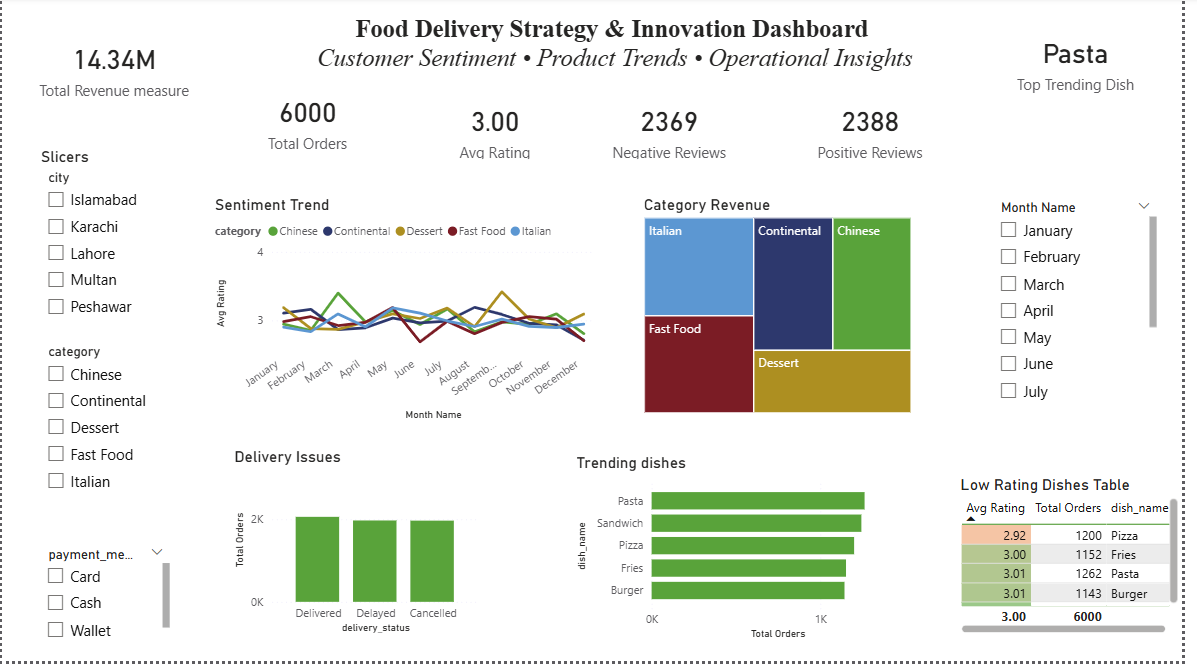

This screenshot's page, from the dashboard's own definition file:
{"tool":"powerbi","page":{"name":"Page 5","canvas":[1280,720],"ordinal":4},"visuals":[{"type":"clusteredBarChart","title":"Trending dishes","fields":{"Category":["Foodpanda Analysis Dataset.dish_name"],"Y":["Foodpanda Analysis Dataset.Total Orders"]},"box":[618.1,494.5,372.5,206.6],"z":0},{"type":"columnChart","title":"Delivery Issues","fields":{"Category":["Foodpanda Analysis Dataset.delivery_status"],"Y":["Foodpanda Analysis Dataset.Total Orders"]},"box":[247.2,488,274.9,206.6],"z":1000},{"type":"lineChart","title":"Sentiment Trend","fields":{"Y":["Foodpanda Analysis Dataset.Avg Rating"],"Series":["Foodpanda Analysis Dataset.category"],"Category":["Foodpanda Analysis Dataset.Month Name"]},"box":[226.1,214.7,421.3,248.9],"z":2000},{"type":"treemap","title":"Category Revenue","fields":{"Group":["Foodpanda Analysis Dataset.category"],"Values":["CountNonNull(Foodpanda Analysis Dataset.Total Revenue)"]},"box":[691.3,214.7,299.3,240.7],"z":3000},{"type":"tableEx","title":"Low Rating Dishes Table","fields":{"Values":["Foodpanda Analysis Dataset.Avg Rating","Foodpanda Analysis Dataset.Total Orders","Foodpanda Analysis Dataset.dish_name"]},"box":[1034.5,518.9,245.6,175.7],"z":4000},{"type":"card","fields":{"Values":["Foodpanda Analysis Dataset.Total Revenue measure"]},"box":[16.3,1.6,209.8,149.6],"z":5000},{"type":"card","fields":{"Values":["Foodpanda Analysis Dataset.Total Orders"]},"box":[247.2,87.8,167.5,92.7],"z":6000},{"type":"card","fields":{"Values":["Foodpanda Analysis Dataset.Avg Rating"]},"box":[450.6,105.7,167.5,74.8],"z":7000},{"type":"card","fields":{"Values":["Foodpanda Analysis Dataset.Negative Reviews"]},"box":[639.2,105.7,167.5,74.8],"z":8000},{"type":"card","fields":{"Values":["Foodpanda Analysis Dataset.Positive Reviews"]},"box":[811.6,105.7,258.6,74.8],"z":9000},{"type":"slicer","title":"Slicers","fields":{"Values":["Foodpanda Analysis Dataset.city"]},"box":[37.4,162.7,149.6,196.8],"z":10000},{"type":"slicer","fields":{"Values":["Foodpanda Analysis Dataset.category"]},"box":[37.4,370.9,149.6,196.8],"z":11000},{"type":"slicer","fields":{"Values":["Foodpanda Analysis Dataset.Month Name"]},"box":[1070.3,214.7,187.1,232.6],"z":12000},{"type":"slicer","fields":{"Values":["Foodpanda Analysis Dataset.payment_method"]},"box":[37.4,590.4,149.6,110.6],"z":13000},{"type":"card","fields":{"Values":["Foodpanda Analysis Dataset.Top Trending Dish"]},"box":[1070.3,13,187.1,113.9],"z":14000},{"type":"textbox","box":[266.8,13,788.9,74.8],"z":15000}]}

Visuals, with their boxes in screenshot pixels (x1, y1, x2, y2), scaled from the page's 1280x720 canvas onto the 1197x664 screenshot:
"Trending dishes" clusteredBarChart: region(578, 456, 926, 647)
"Delivery Issues" columnChart: region(231, 450, 488, 641)
"Sentiment Trend" lineChart: region(211, 198, 605, 428)
"Category Revenue" treemap: region(646, 198, 926, 420)
"Low Rating Dishes Table" tableEx: region(967, 479, 1196, 641)
card - Foodpanda Analysis Dataset.Total Revenue measure: region(15, 1, 211, 139)
card - Foodpanda Analysis Dataset.Total Orders: region(231, 81, 388, 166)
card - Foodpanda Analysis Dataset.Avg Rating: region(421, 97, 578, 166)
card - Foodpanda Analysis Dataset.Negative Reviews: region(598, 97, 754, 166)
card - Foodpanda Analysis Dataset.Positive Reviews: region(759, 97, 1001, 166)
"Slicers" slicer: region(35, 150, 175, 332)
slicer - Foodpanda Analysis Dataset.category: region(35, 342, 175, 524)
slicer - Foodpanda Analysis Dataset.Month Name: region(1001, 198, 1176, 413)
slicer - Foodpanda Analysis Dataset.payment_method: region(35, 544, 175, 646)
card - Foodpanda Analysis Dataset.Top Trending Dish: region(1001, 12, 1176, 117)
textbox: region(249, 12, 987, 81)
